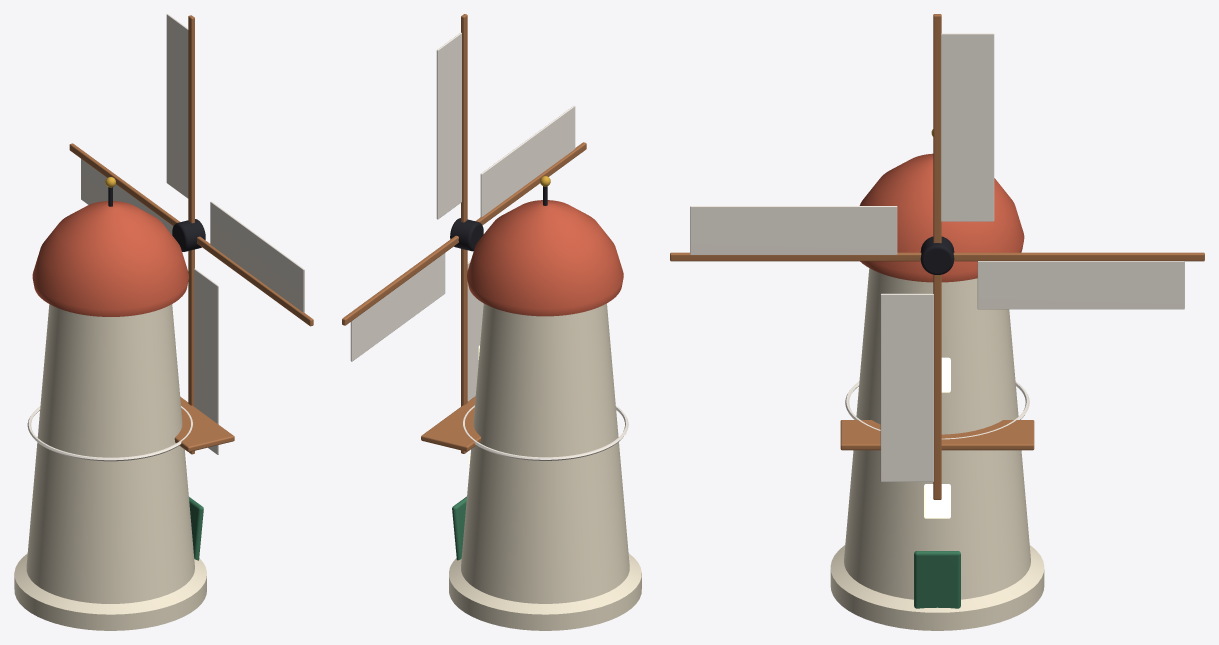
Rendered from windmill.glb.
3 views of the same model, side by side, from view 1: azimuth 30°, elevation 25°; view 2: azimuth 150°, elevation 25°; view 3: azimuth 270°, elevation 25° (orthographic). The views are drawn at different scales.
Parts seen in each view (by area): view 1: windmill, blades; view 2: windmill, blades; view 3: windmill, blades.
Boxes of the visible parts, x1,y1,x2,y2 form: windmill: [14, 177, 234, 630]; blades: [69, 14, 313, 454]; windmill: [421, 176, 641, 630]; blades: [342, 14, 586, 453]; windmill: [830, 129, 1044, 630]; blades: [670, 14, 1204, 499].
Bounding box in the file's own units: 6.59 × 20.3 × 16.
Materials: 1 (1 with a texture image).
